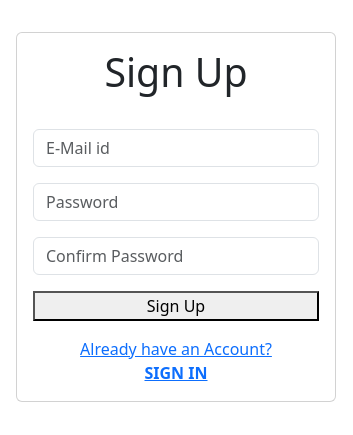
it: SignUp Component › shows Firebase error message when signup fails
Type "test@test.com" into the field with placeholder "E-Mail id" at (176, 148), box [33,129,319,167]
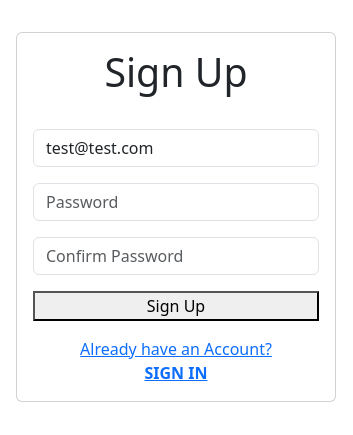
Type "123456" into the password field with placeholder "Password" at (176, 202), box [33,183,319,221]
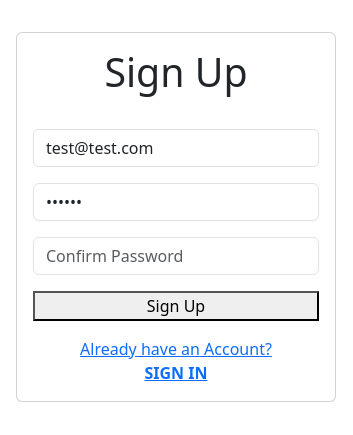
Type "123456" into the password field with placeholder "Confirm Password" at (176, 256), box [33,237,319,275]
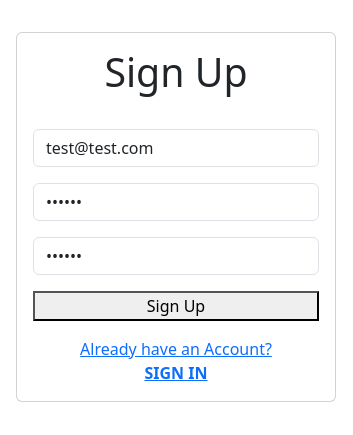
Click the button "Sign Up" at (176, 306), box [33,291,319,321]
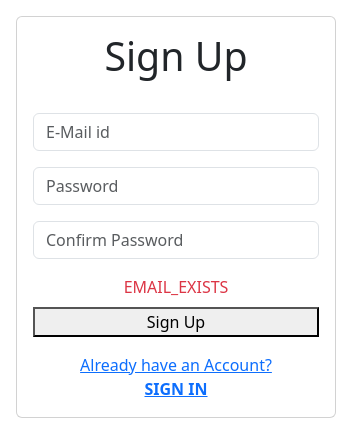
Expected: the text "EMAIL_EXISTS" is shown, [124,276,228,298]
